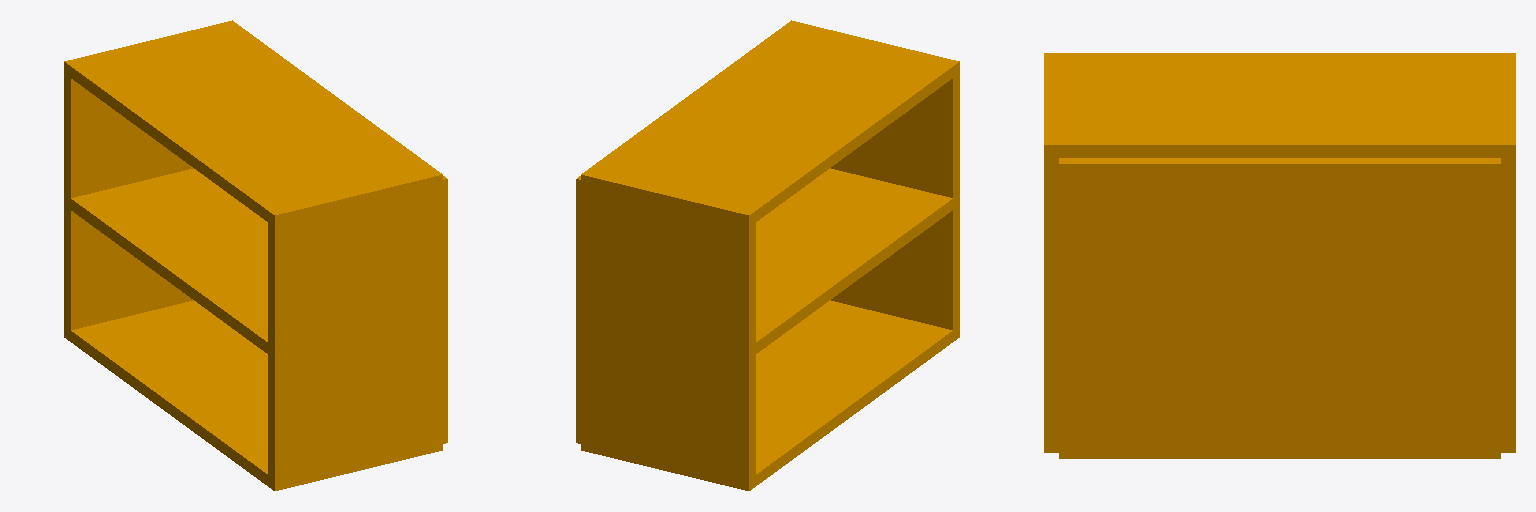
The robot description file, URDF, robot "shelves.off":
<?xml version="1.0"?>
<robot name="shelves.off">
	<link name="shelves.off">
		<inertial>
			<!--origin xyz="0 0 0" rpy="0 0 0" /-->
			<mass value="0.5" />
			<!--inertia ixx="0.000360" ixy="0" ixz="0" iyy="0.0000615" iyz="0" izz="0.00036" /-->
		</inertial>
    		<visual>
	      		<!--origin rpy="0 0 0" xyz="0 0 0"/-->
      			<geometry>
        			<mesh filename="shelves.off.obj"/>
      			</geometry>
         	</visual>
    		<collision>
      			<!--origin rpy="0 0 0" xyz="0 0 0"/-->
      			<geometry>
        			<mesh filename="shelves.off.obj"/>
      			</geometry>
    		</collision>
	</link>
</robot>

--- Render facts (derived) ---
3 views of the same robot in one strip: view 1: azimuth 30°, elevation 25°; view 2: azimuth 150°, elevation 25°; view 3: azimuth 270°, elevation 25° (orthographic).
Model shelves.off with 1 links and 0 joints (none), rooted at shelves.off, posed every joint at zero.
Visible links, largest first — view 1: shelves.off; view 2: shelves.off; view 3: shelves.off.
Boxes of the visible links, bbox=[...] form: shelves.off: bbox=[64, 20, 447, 490]; shelves.off: bbox=[576, 20, 959, 490]; shelves.off: bbox=[1044, 53, 1515, 458].
Size in the robot's own frame: 0.32 by 0.65 by 0.47 metres.
1 mesh visuals loaded from 1 distinct referenced files (1 OBJ).